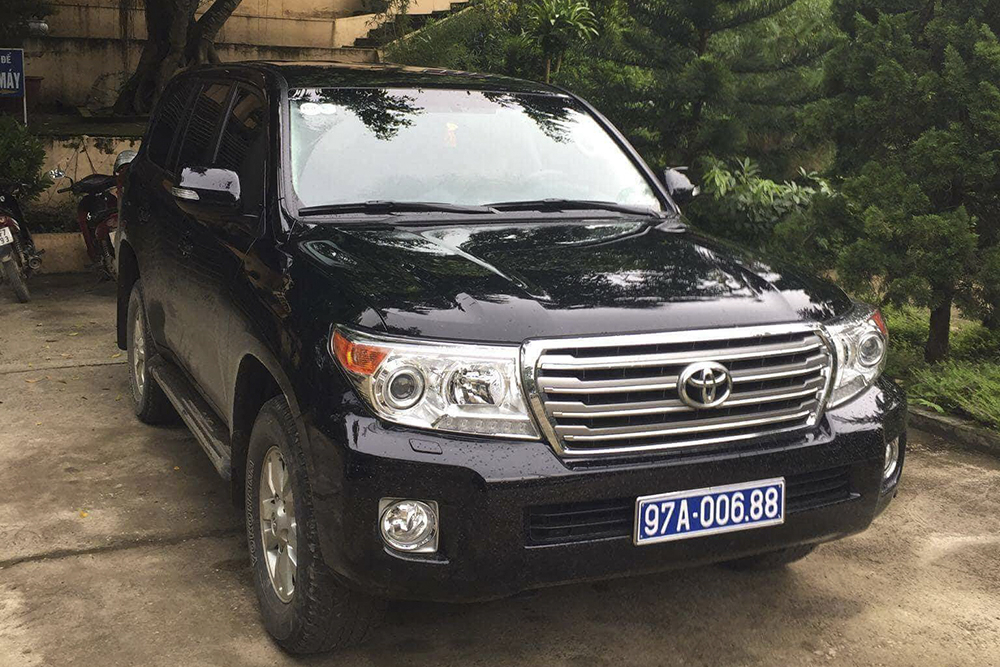number_plate: (639, 479, 792, 534)
